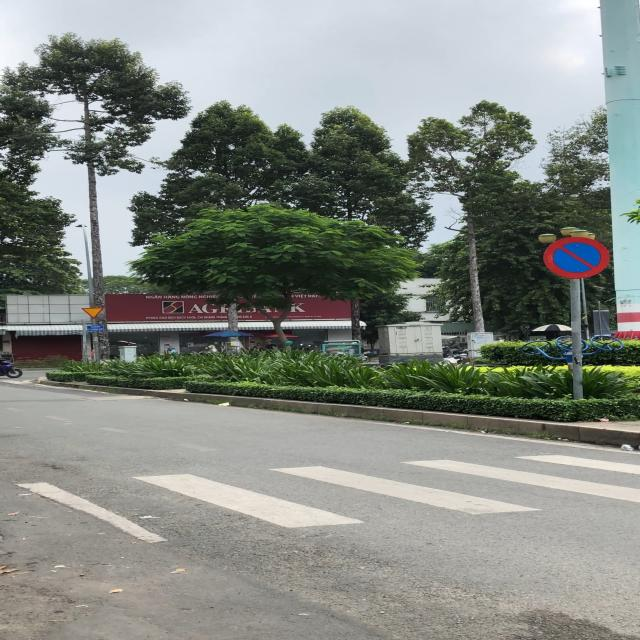Bien bao cam do xe: (540, 235, 613, 281)
Bien bao giao nhau voi duong uu tien: (79, 306, 106, 319)
